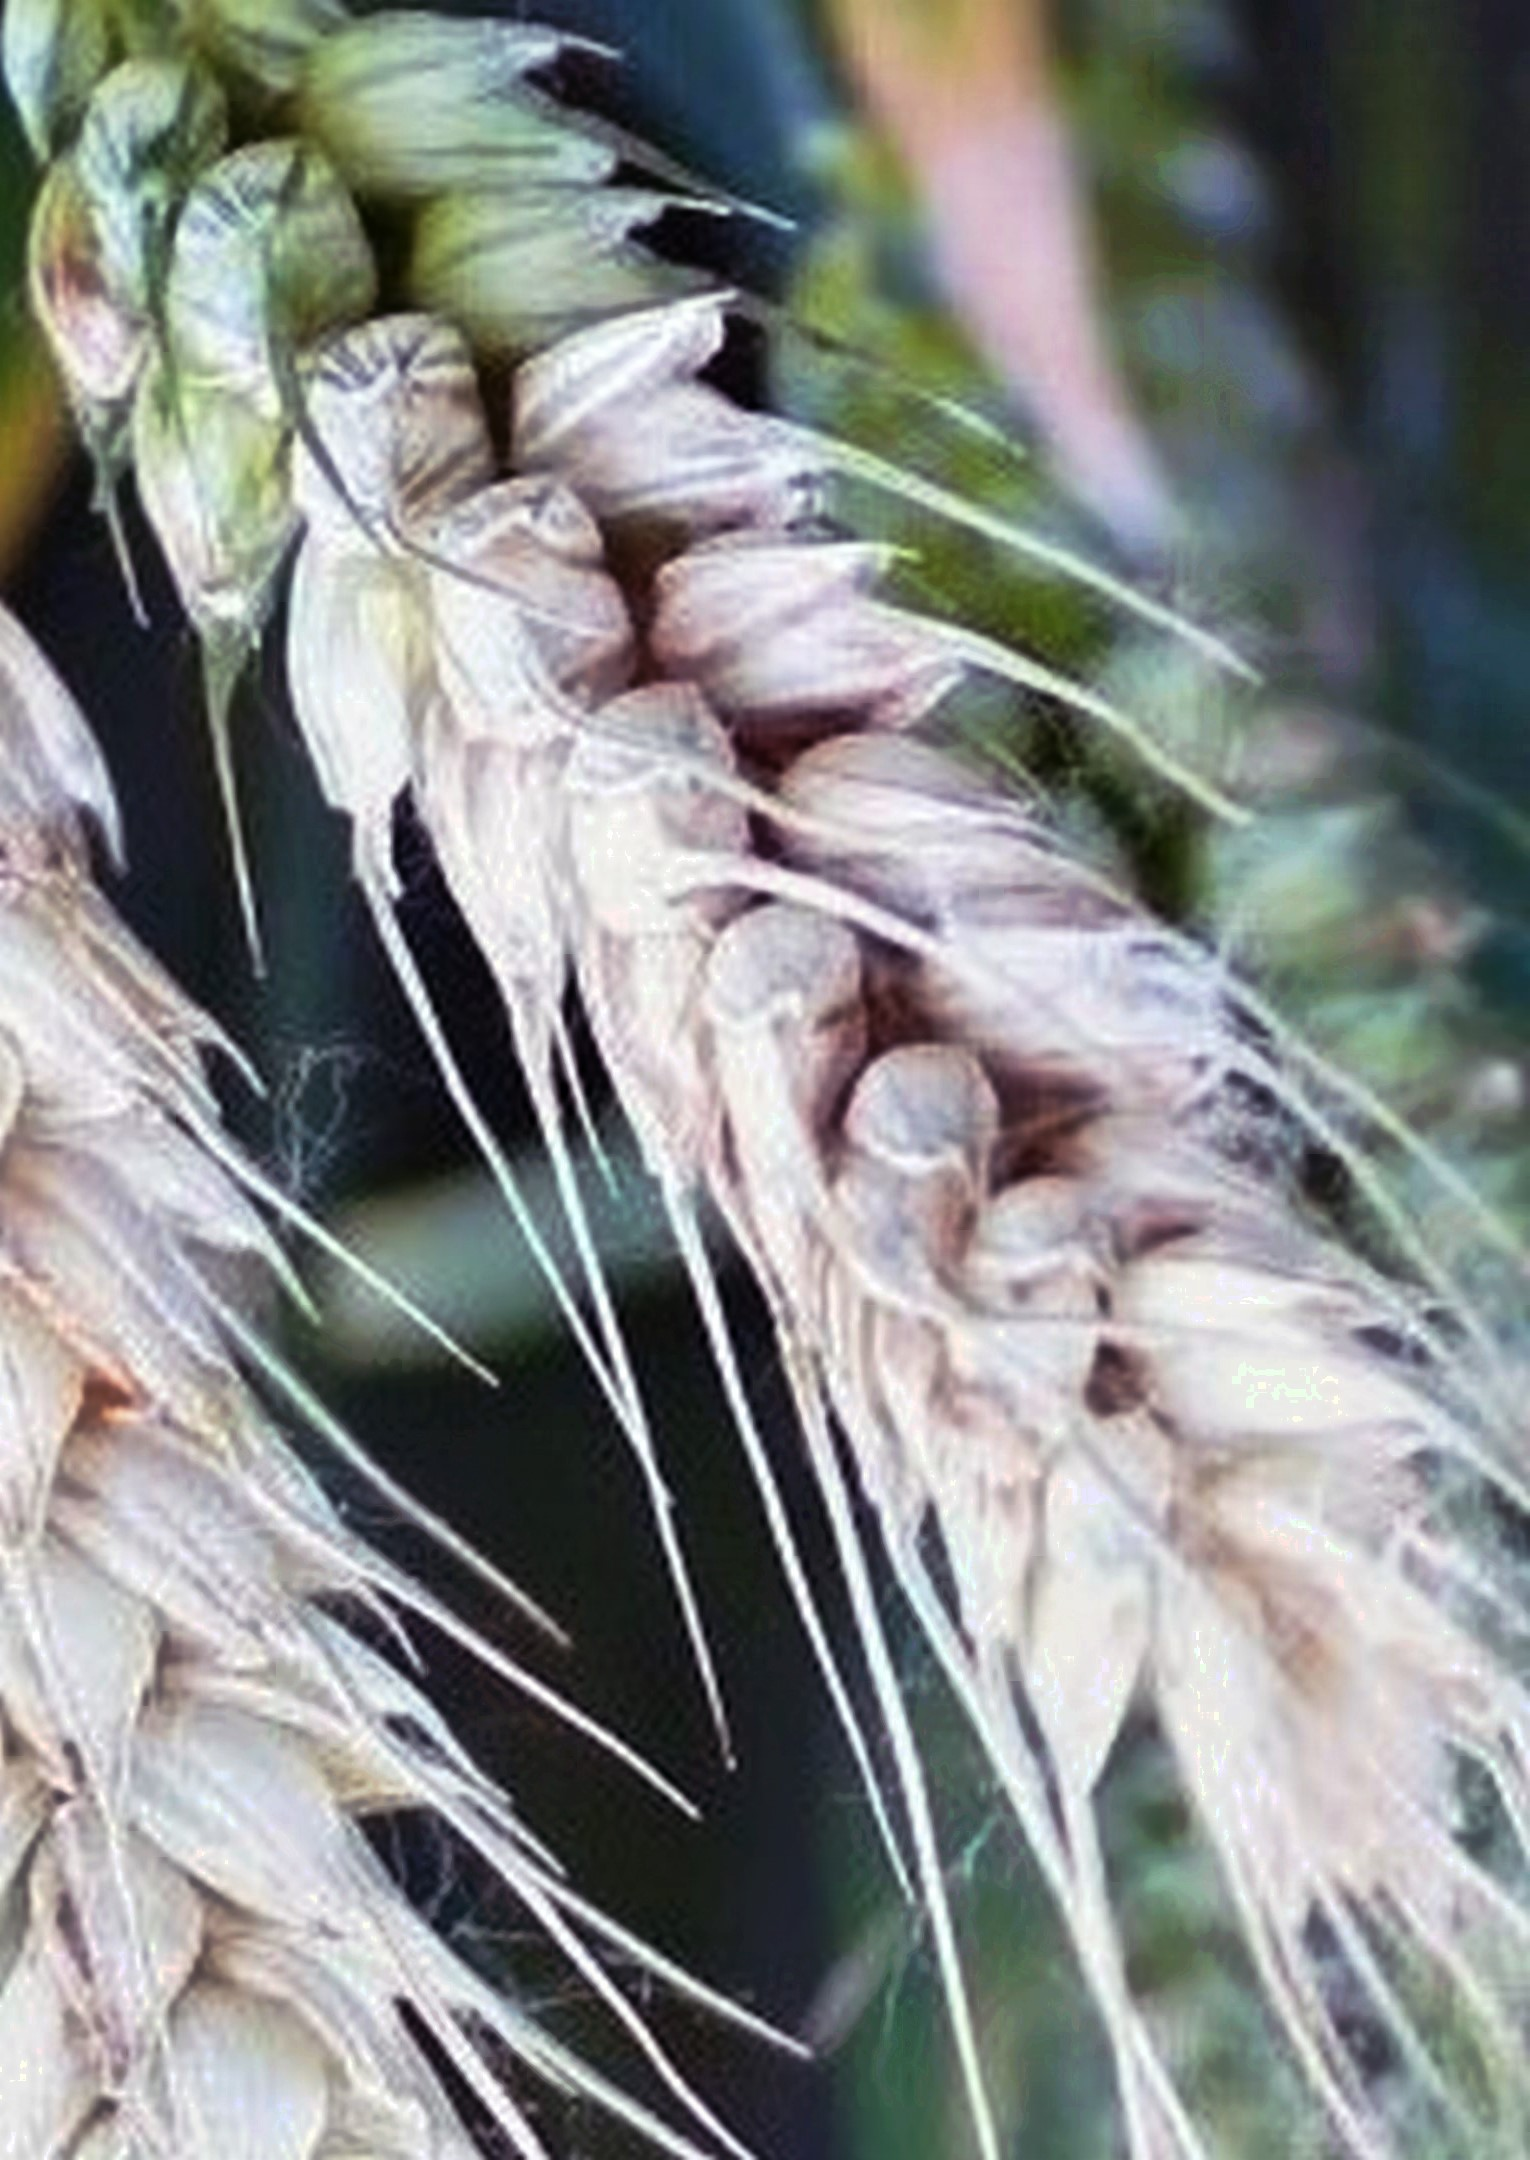Wheat scab: (36, 17, 1494, 1802)
